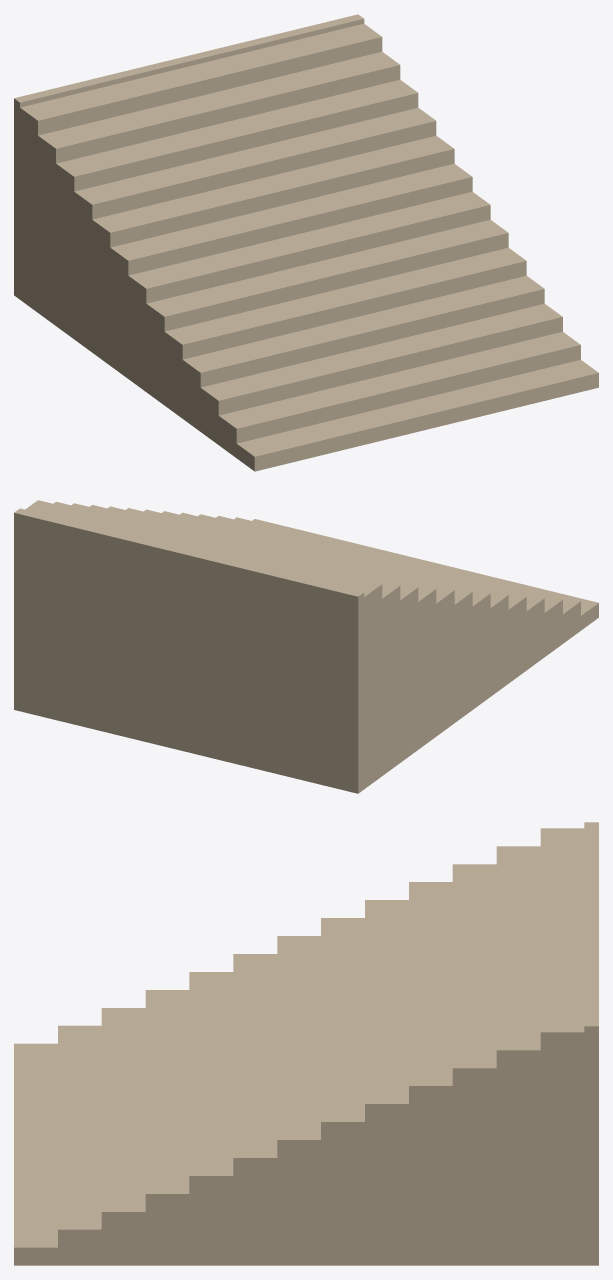
Rendered from BC_Stair_B.fbx.
3 views of the same model, one above another, from view 1: azimuth 30°, elevation 25°; view 2: azimuth 150°, elevation 25°; view 3: azimuth 270°, elevation 25° (orthographic). The views are drawn at different scales.
Visible parts, largest first — view 1: BC_Stair_B; view 2: BC_Stair_B; view 3: BC_Stair_B.
Part boxes in pixels (bbox=[...]): BC_Stair_B: bbox=[14, 14, 598, 471]; BC_Stair_B: bbox=[14, 500, 598, 793]; BC_Stair_B: bbox=[14, 822, 598, 1265].
Bounding box in the file's own units: 529 × 290 × 642.
